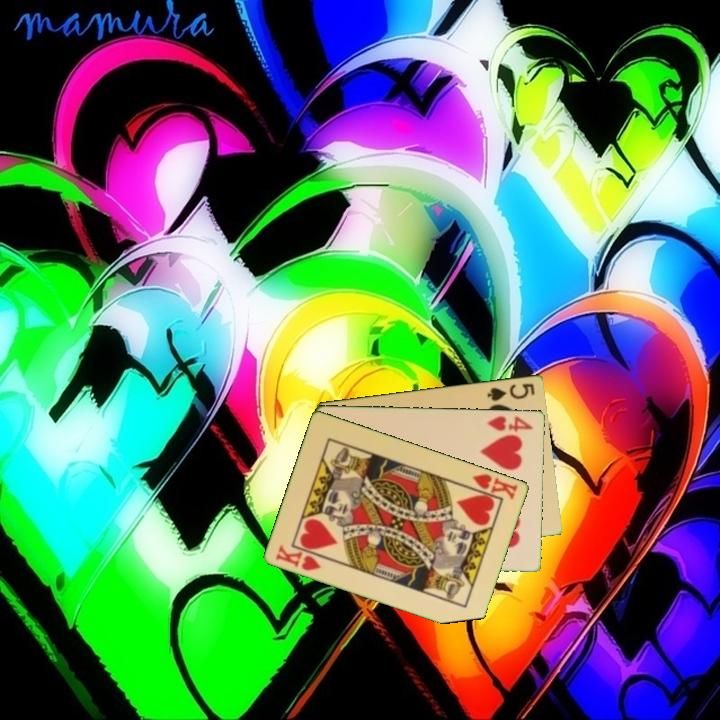4h: (484, 412, 536, 434)
5s: (484, 379, 538, 403)
Kh: (464, 470, 521, 503), (272, 541, 325, 574)
